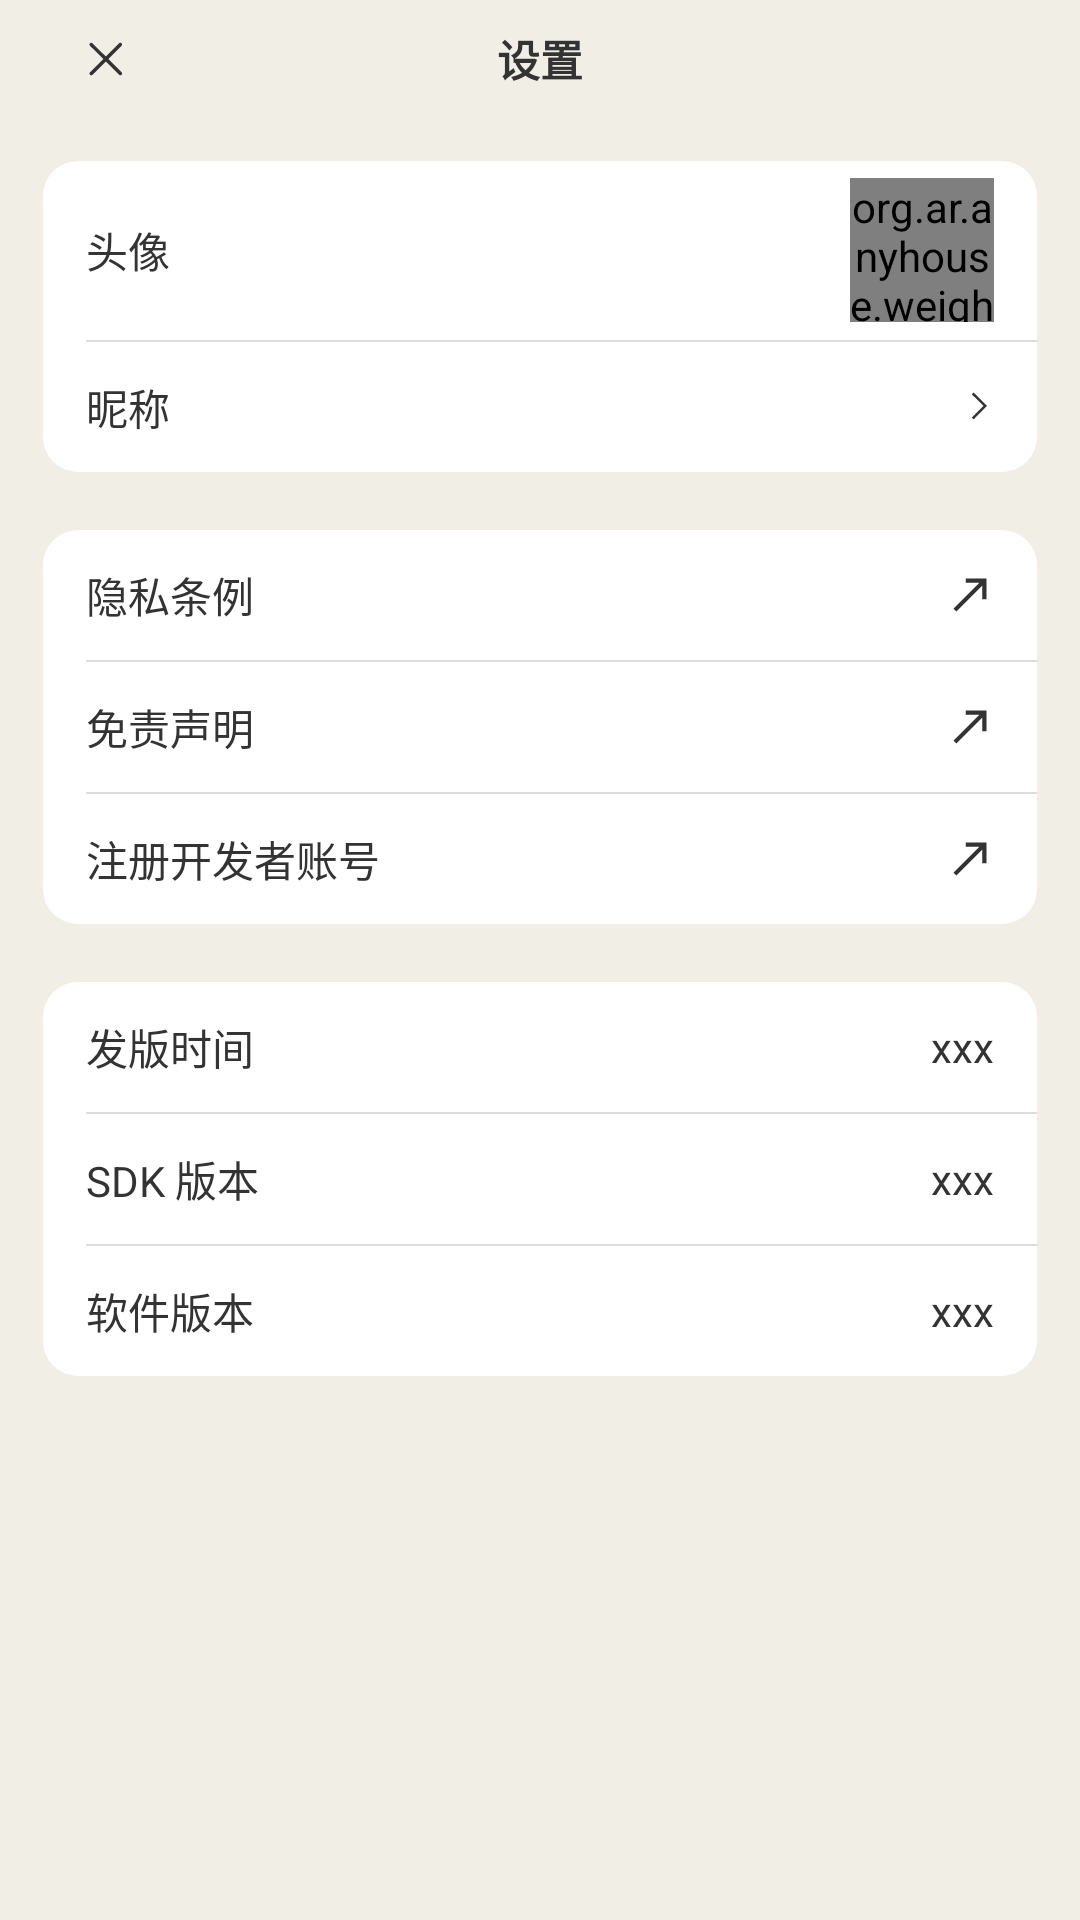

Icons on this 1080w x 1920h Android screen, each with the point to tap as [x,y]:
close: [105,59]
